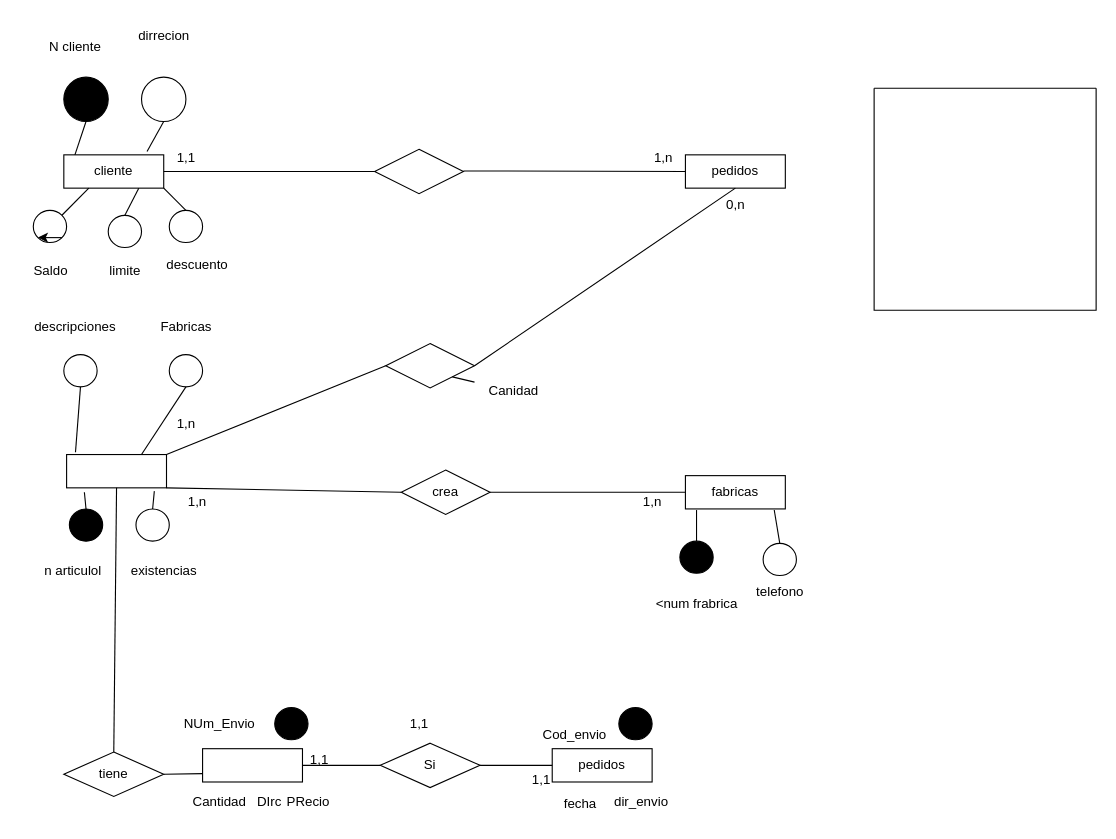
The diagram is 1116 pixels wide and 839 high, and some of its shapes have lost their labels. Here are the shapes that lost their labels. From the top down, the centre of each, then its label:
the point at 418,171: Hace
the point at 430,365: contiene
the point at 116,470: Articulos
the point at 251,765: LIn_pedido
